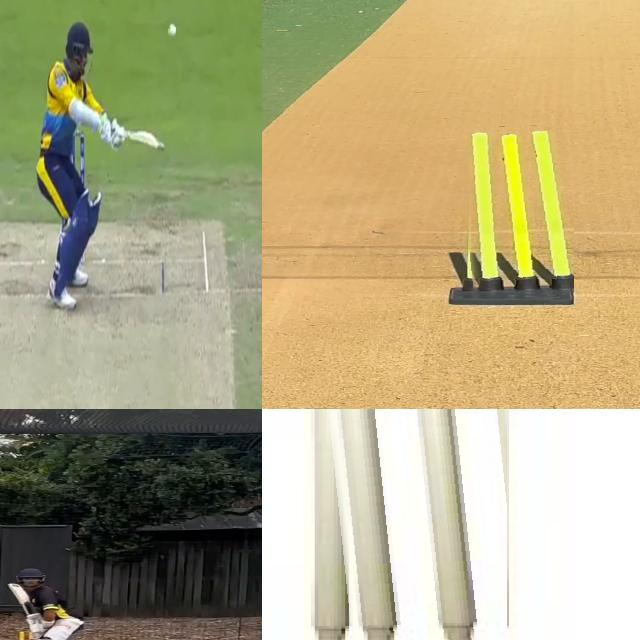Cricket ball: (168, 22, 176, 38)
Stumps: (303, 409, 506, 640), (457, 131, 574, 296)
